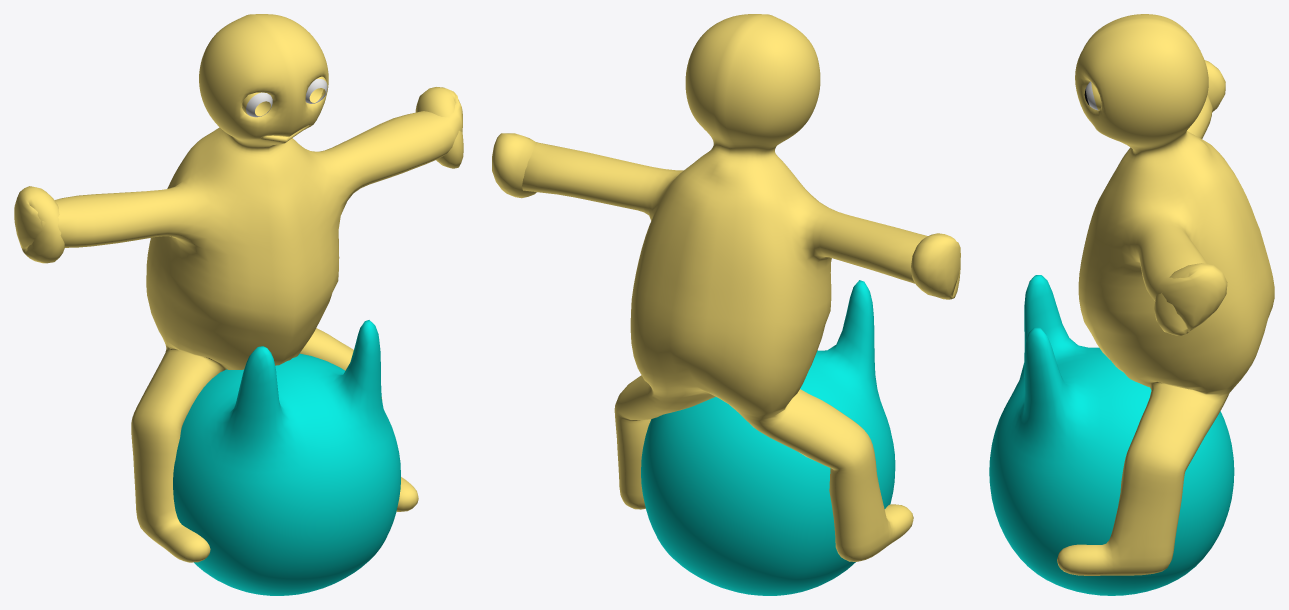
Rendered from caractere.fbx.
3 views of the same model, side by side, from view 1: azimuth 30°, elevation 25°; view 2: azimuth 150°, elevation 25°; view 3: azimuth 270°, elevation 25° (orthographic). The views are drawn at different scales.
Parts seen in each view (by area): view 1: Cube.001, Cube; view 2: Cube.001, Cube; view 3: Cube.001, Cube.
Part boxes in pixels (x1,y1,x2,y2): Cube.001: [14, 14, 463, 562]; Cube: [173, 320, 400, 595]; Cube.001: [492, 14, 960, 561]; Cube: [641, 280, 895, 595]; Cube.001: [1057, 14, 1274, 575]; Cube: [989, 275, 1234, 595].
Size of the model in its own units: 338 by 407 by 187.
